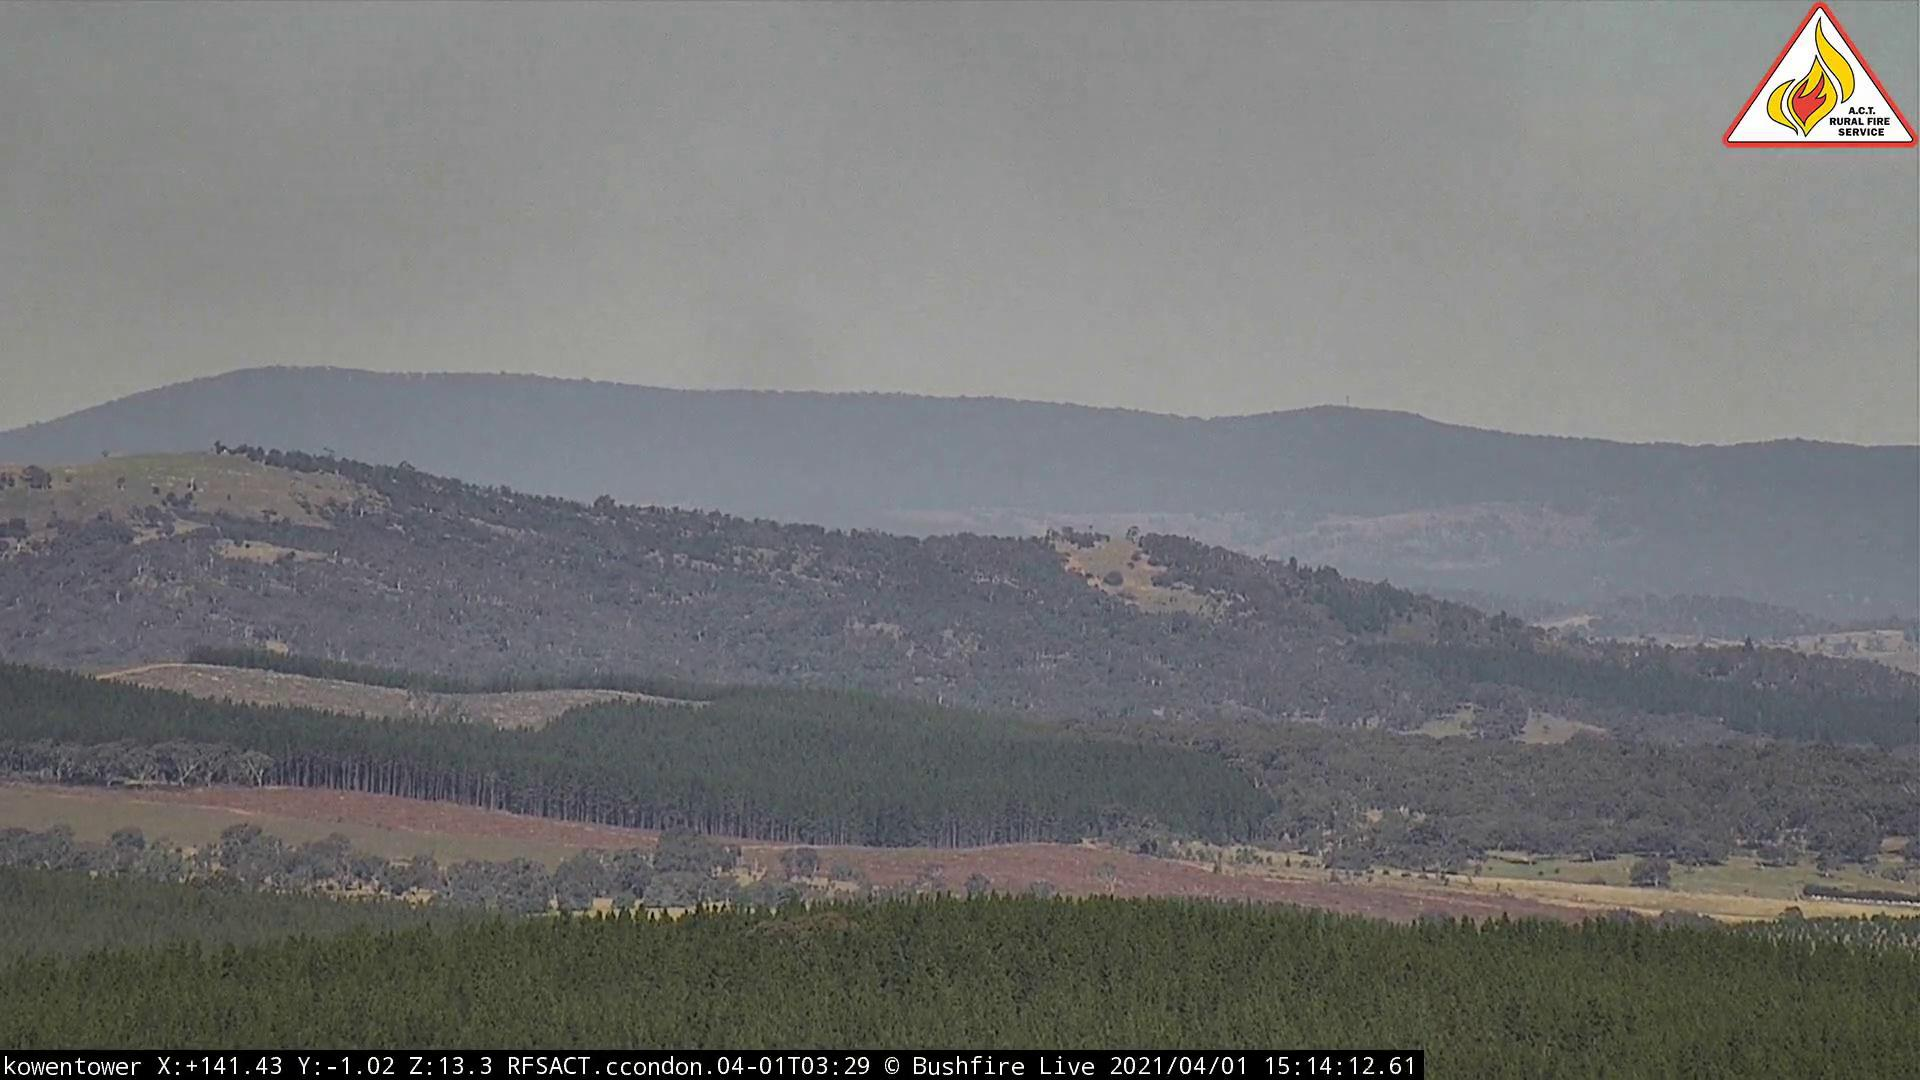instance_salient_object: (675, 281, 858, 433)
